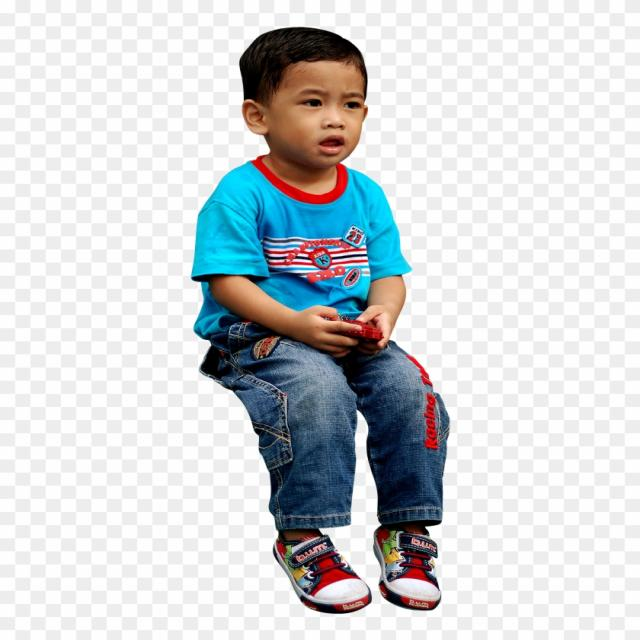child: (176, 1, 508, 630)
